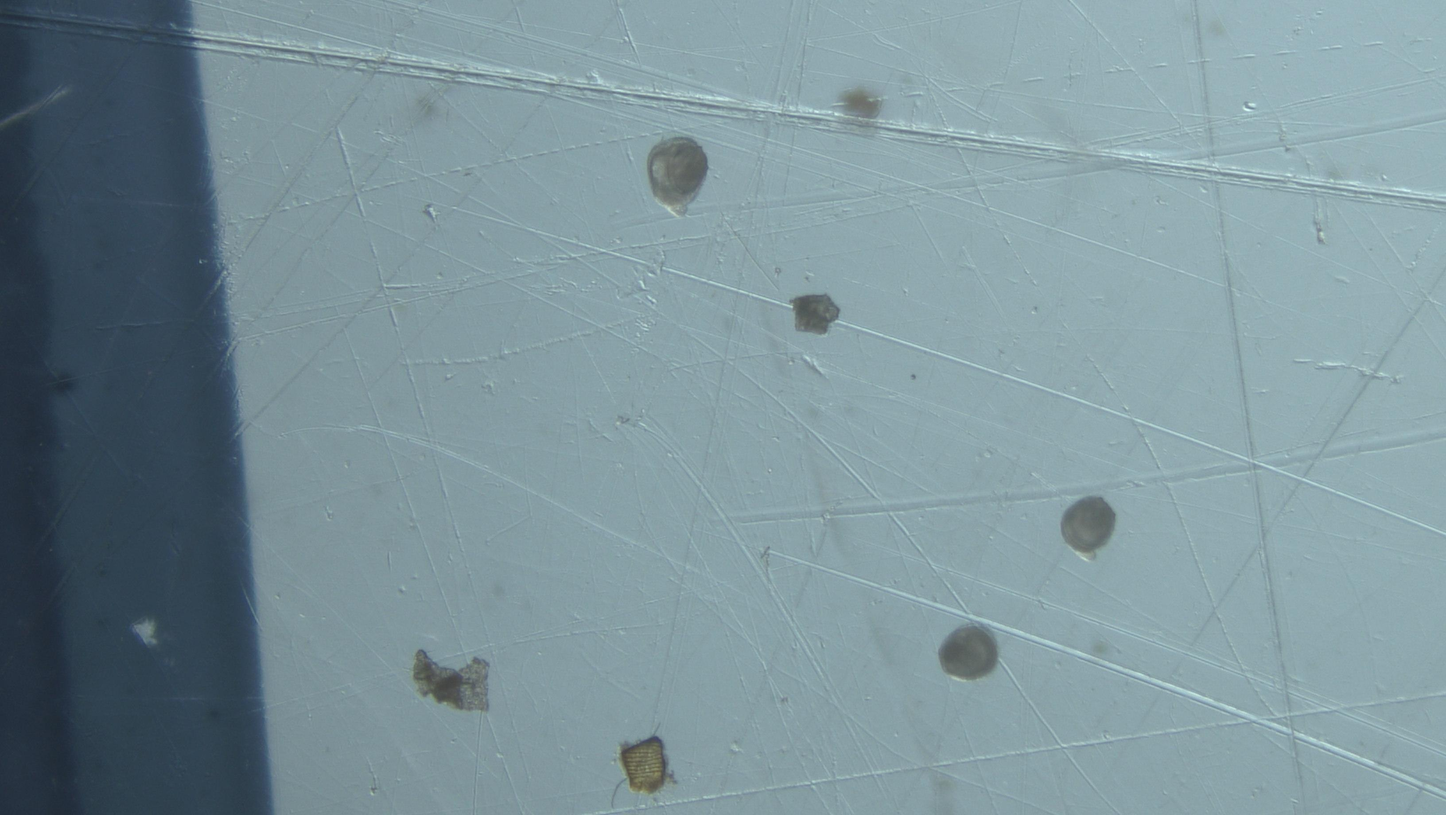live: (647, 137, 708, 216), (938, 623, 999, 682), (1061, 497, 1116, 561)
